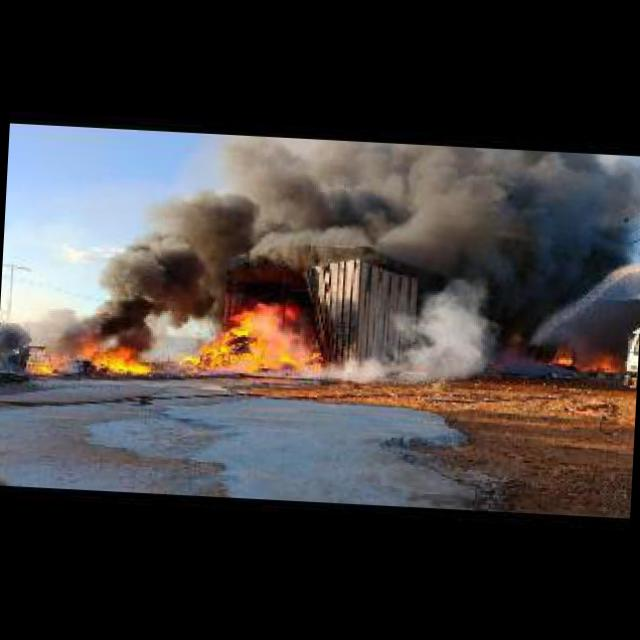fire: (180, 289, 322, 372), (80, 331, 154, 373), (556, 344, 622, 371), (392, 362, 432, 378), (38, 355, 56, 372)
smoke: (109, 127, 640, 303), (398, 271, 504, 367), (64, 250, 173, 340), (138, 294, 218, 358), (319, 352, 382, 384)
